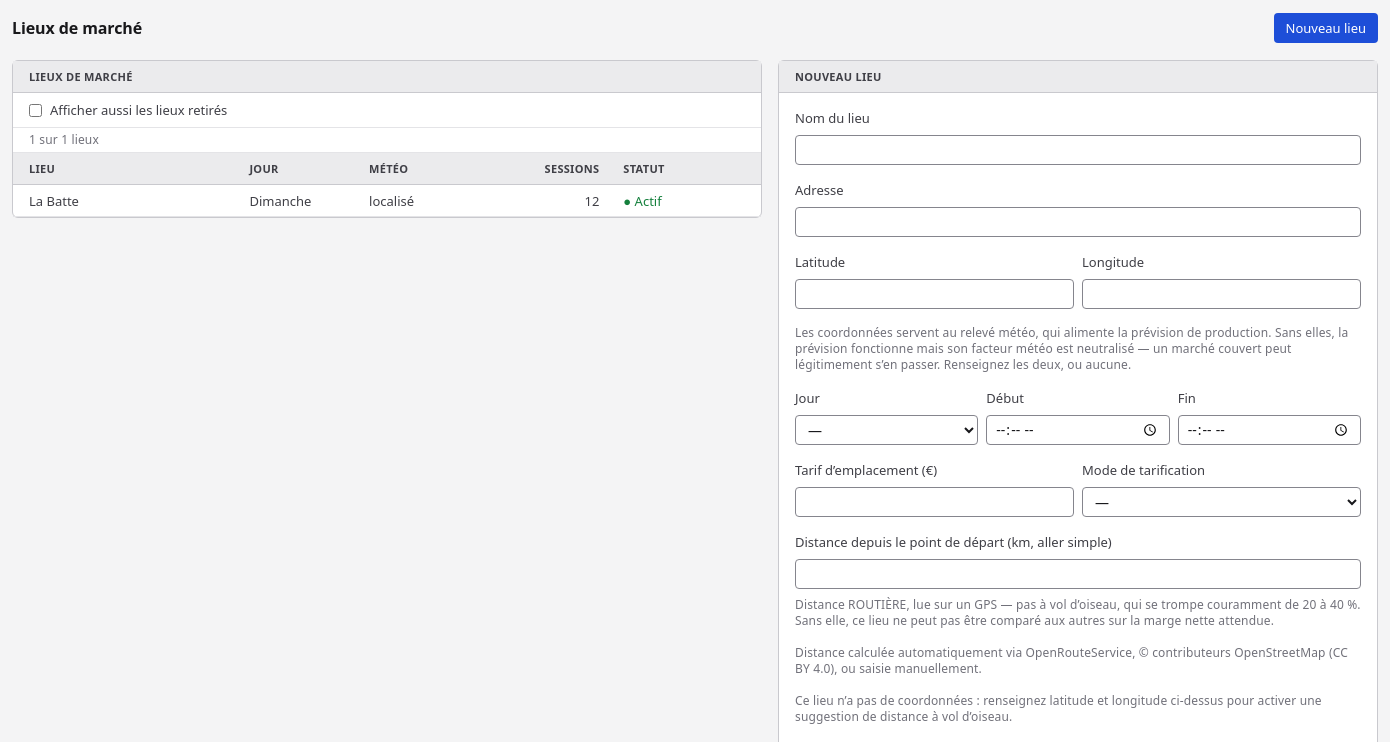
Test: Lieux de marché — ce qui manque se voit, et ne se lit pas comme un zéro › un tarif présent se pré-remplit via le FORMATEUR, jamais un littéral tapé à la main
Click the text "La Batte" at [125, 201], box [13,185,237,217]
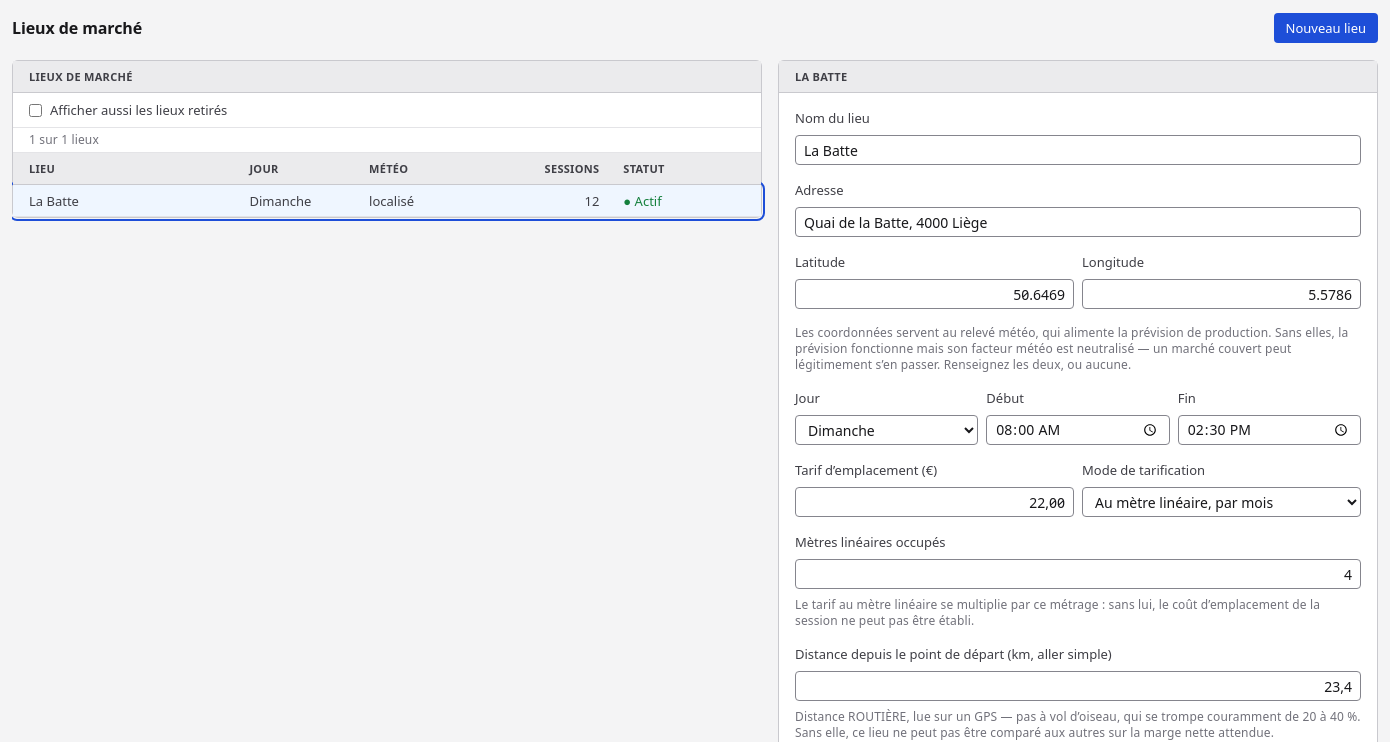
Check: the field named "tarifEmplacementCents" holds "22,00", box [795,487,1074,517]
